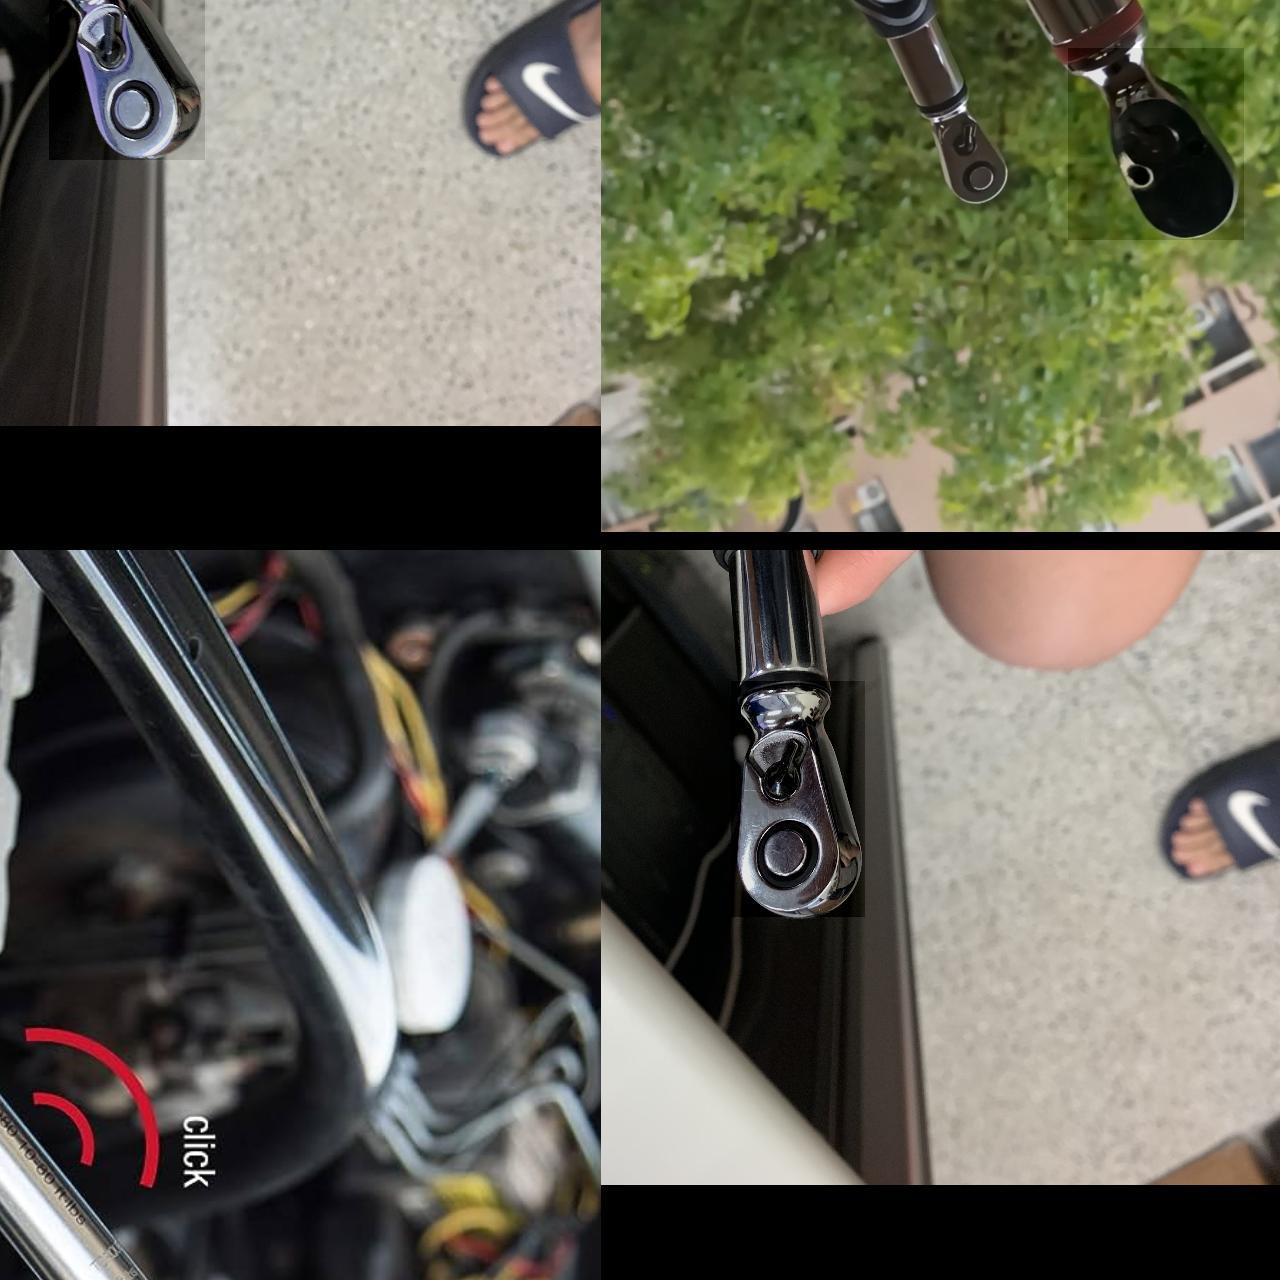Tool: (1067, 48, 1242, 240), (730, 681, 864, 917), (48, 0, 204, 159), (925, 108, 1009, 206)
